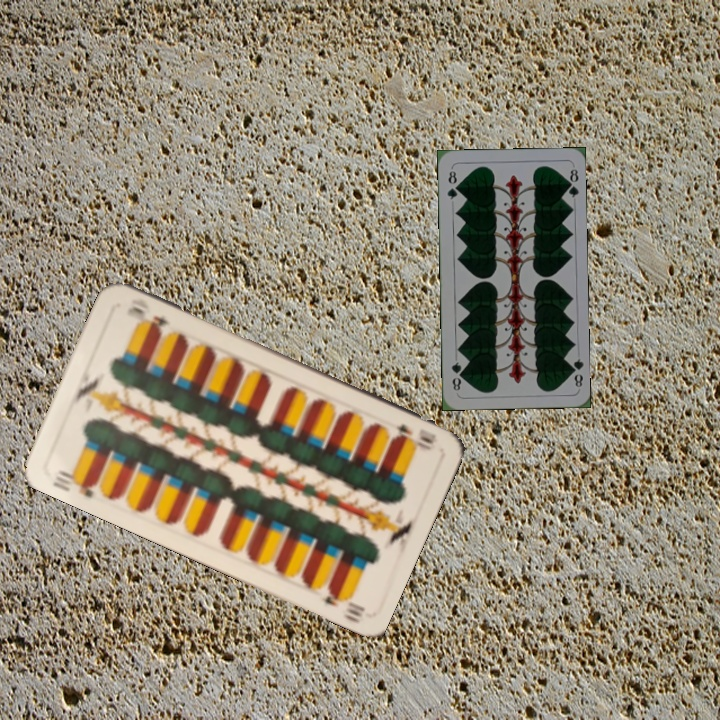E10: (48, 466, 100, 501), (391, 419, 441, 453)
G8: (565, 355, 585, 389), (443, 167, 461, 202)
